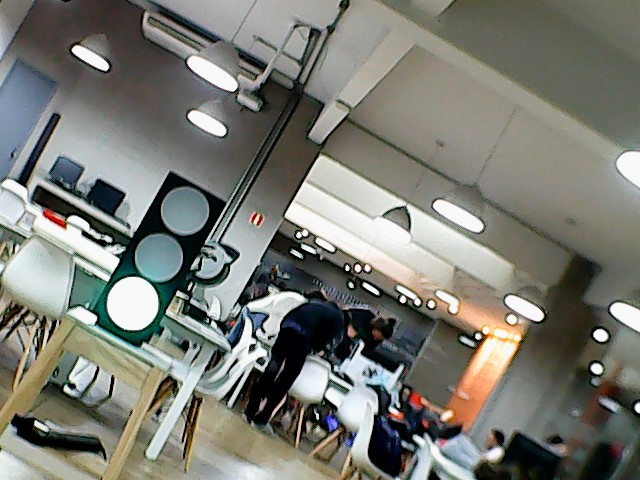verde: (90, 166, 229, 351)
